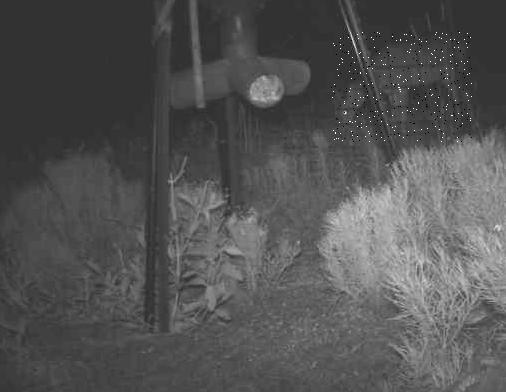Deer: (331, 32, 472, 143)
